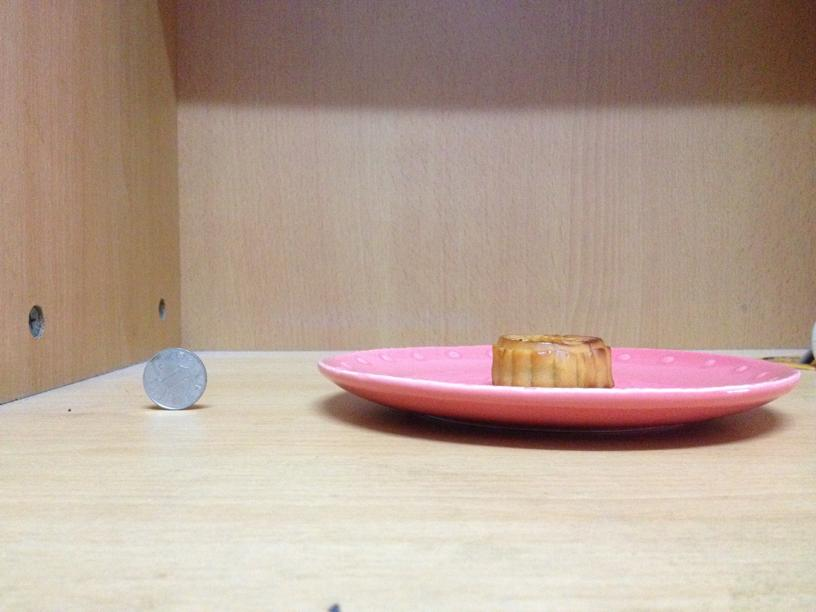coin: (142, 348, 207, 411)
mooncake: (487, 334, 614, 389)
